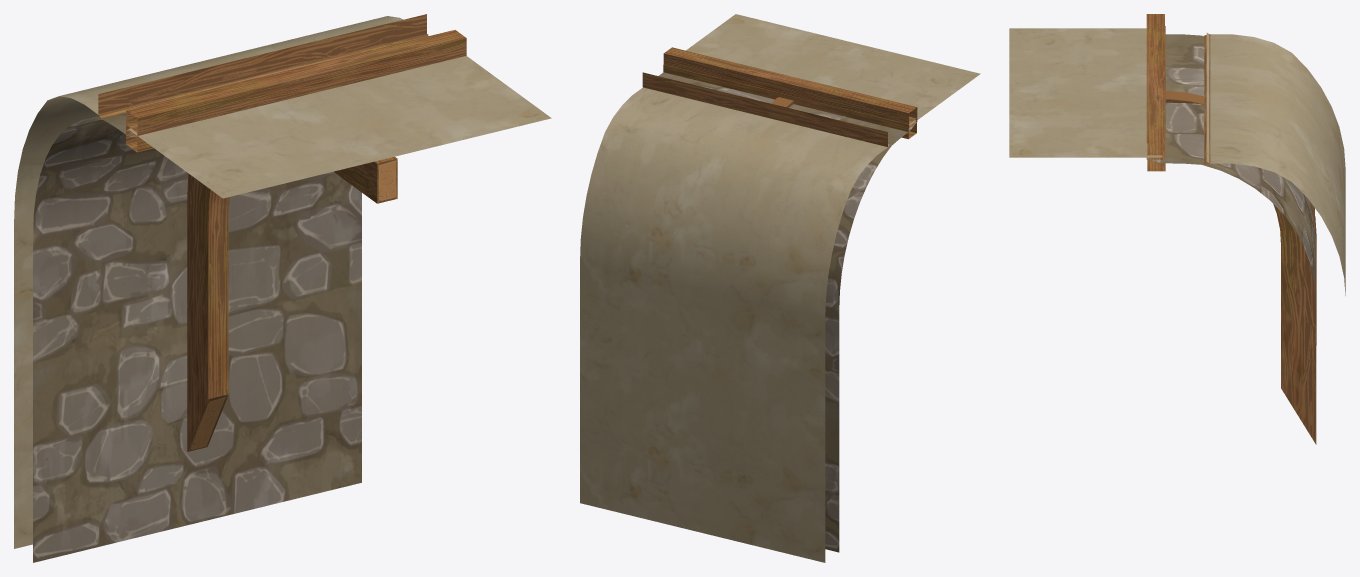
The model's file is Overhang_UnevenBrick_Long.gltf.
3 views of the same model, side by side, from view 1: azimuth 30°, elevation 25°; view 2: azimuth 150°, elevation 25°; view 3: azimuth 270°, elevation 25° (orthographic). The views are drawn at different scales.
Parts seen in each view (by area): view 1: Overhang_UnevenBrick_Long; view 2: Overhang_UnevenBrick_Long; view 3: Overhang_UnevenBrick_Long.
Boxes of the visible parts, bbox=[...] form: Overhang_UnevenBrick_Long: bbox=[14, 14, 551, 562]; Overhang_UnevenBrick_Long: bbox=[580, 14, 980, 562]; Overhang_UnevenBrick_Long: bbox=[1009, 14, 1345, 444].
Bounding box in the file's own units: 2 × 3.03 × 2.2.
Materials: 3 (3 with a texture image).
